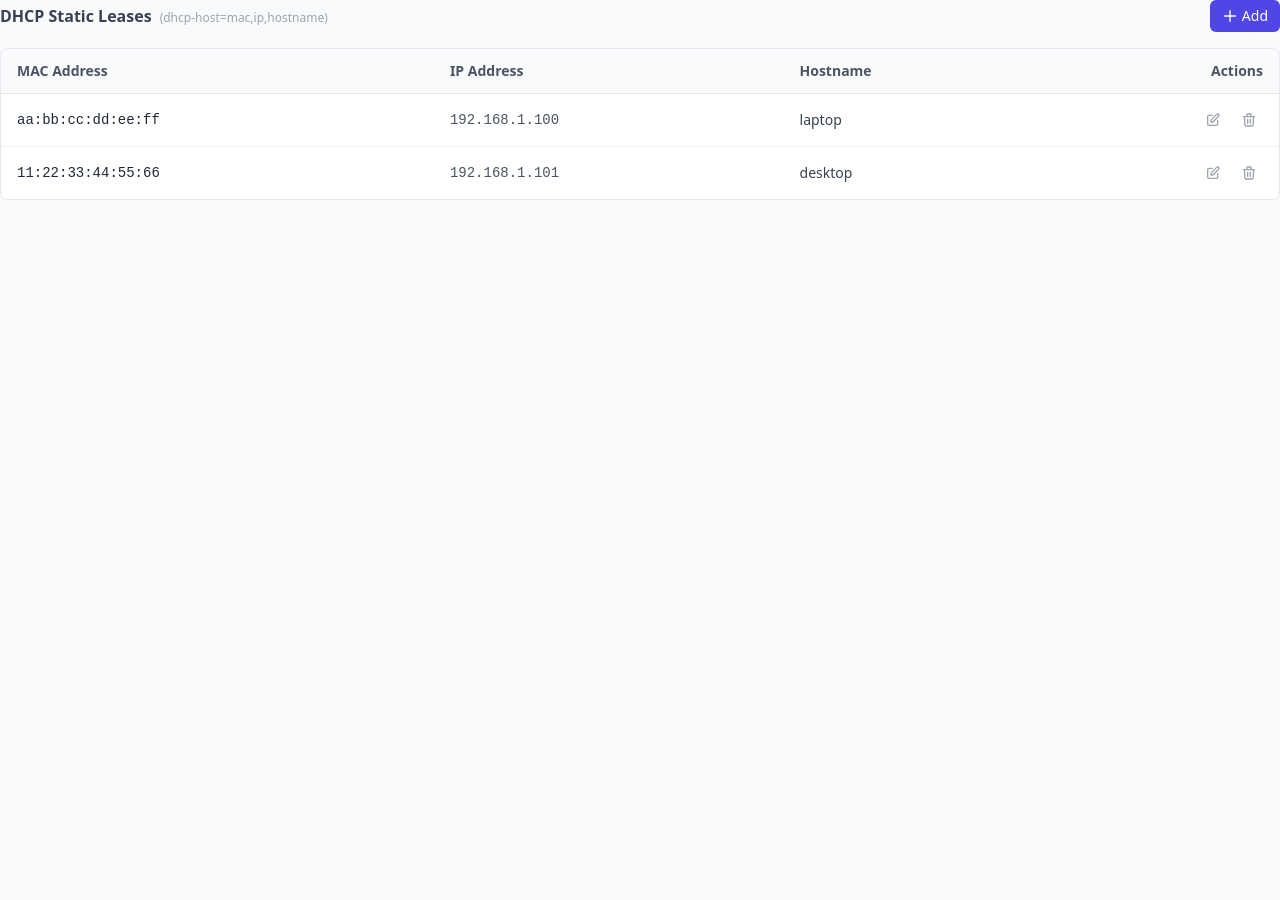
Test: DhcpTable › closes modal when Cancel is clicked
The width and height of the screenshot is (1280, 900).
Expected: the text "laptop" is shown, top-left (784, 94), bottom-right (1041, 146)
What coordinates should you click on to do the following:
click the button "Add"
I would click on:
 (1245, 16)
Its box is top-left (1210, 0), bottom-right (1279, 32).
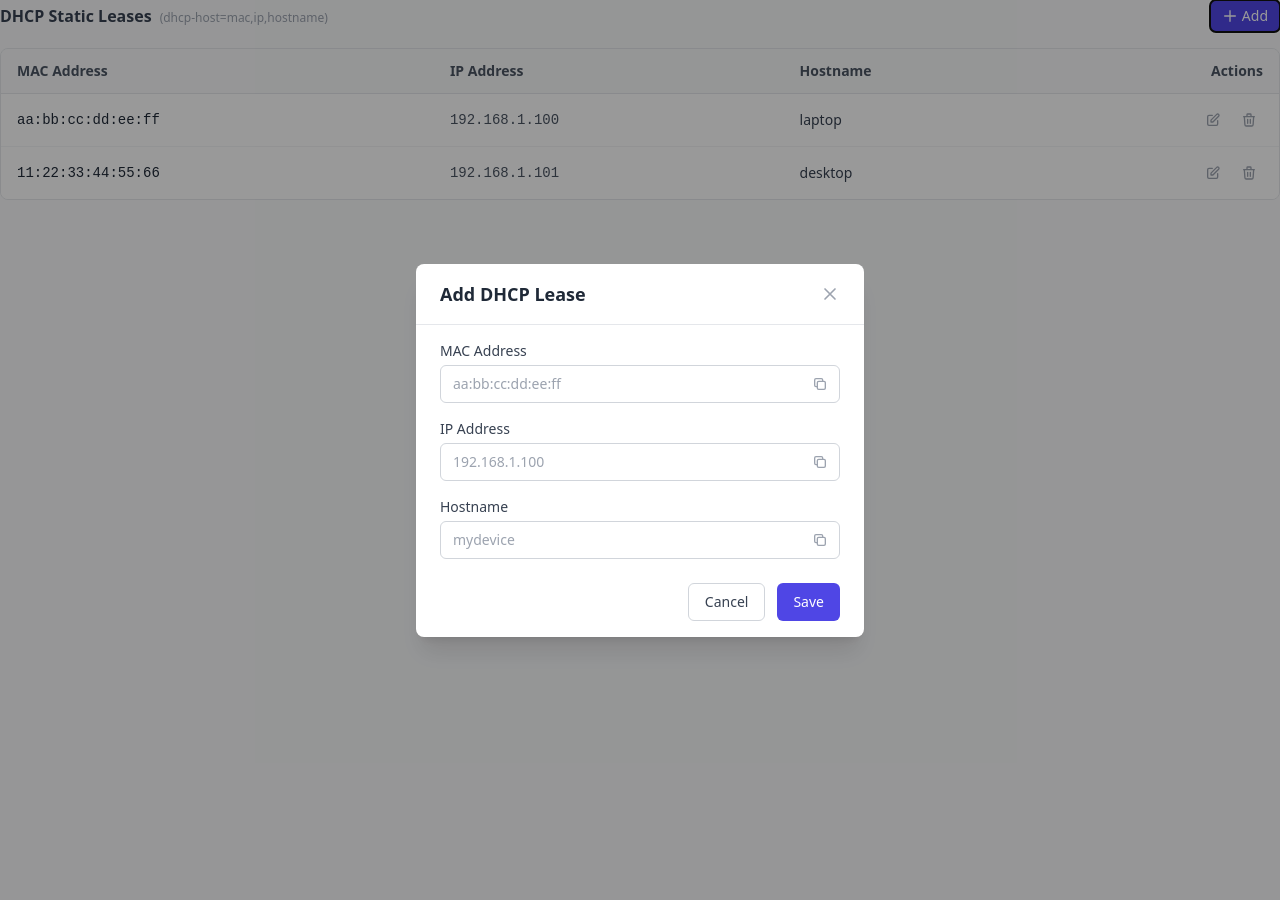
Result: the heading "Add DHCP Lease" is shown at top-left (440, 280), bottom-right (586, 308)
What coordinates should you click on to do the following:
click the button "Cancel"
I would click on:
 (727, 602)
Its box is top-left (688, 582), bottom-right (765, 620).
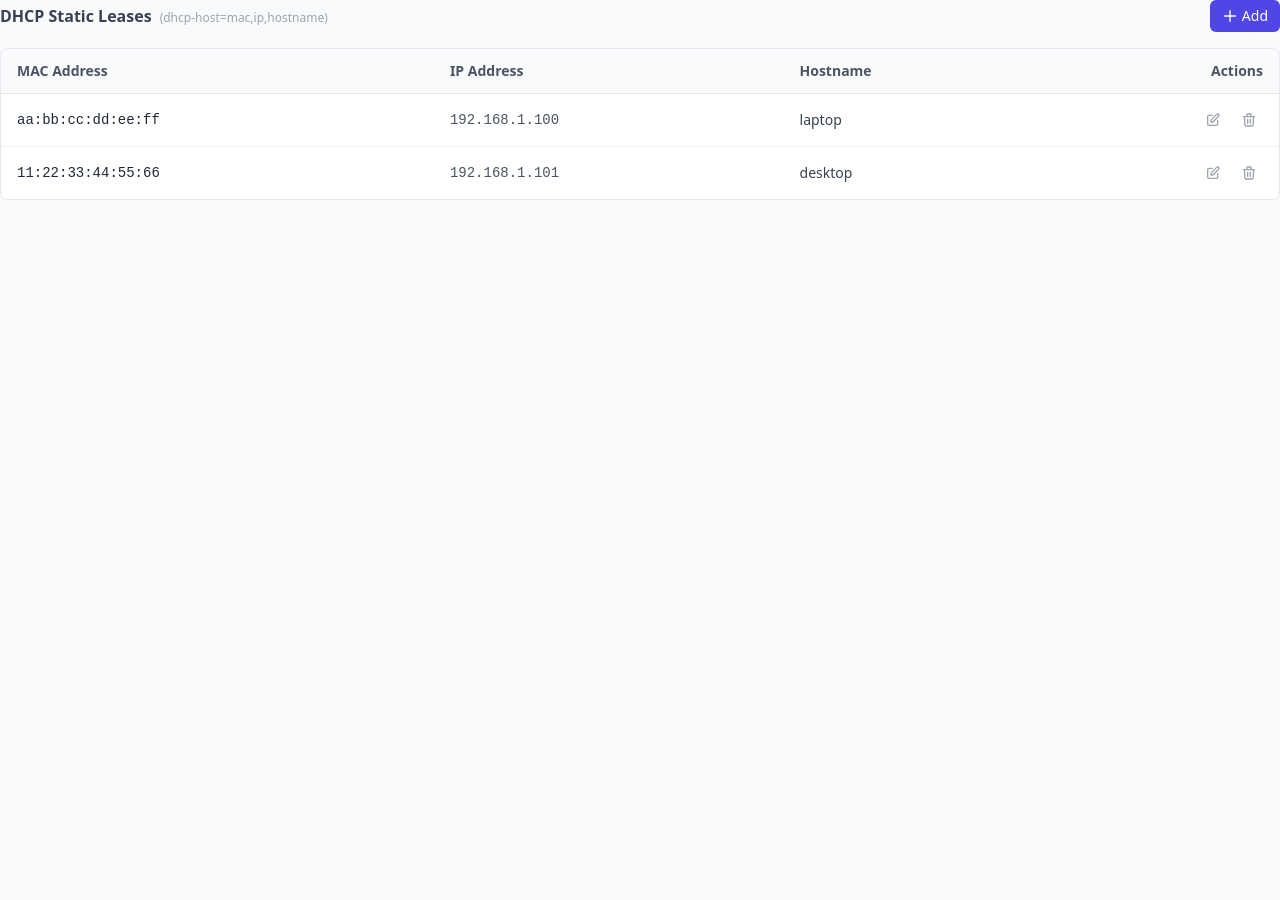
Result: the heading "Add DHCP Lease" is gone
